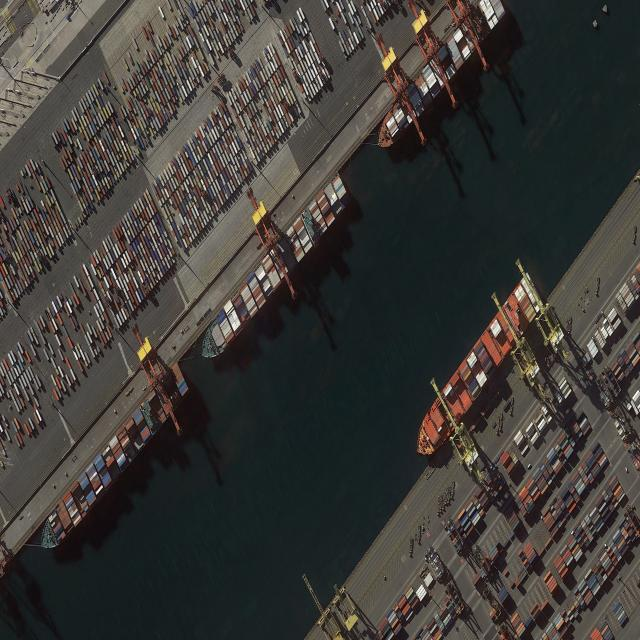ship: (38, 358, 190, 560), (200, 169, 355, 364), (418, 268, 543, 462), (377, 0, 504, 152)
